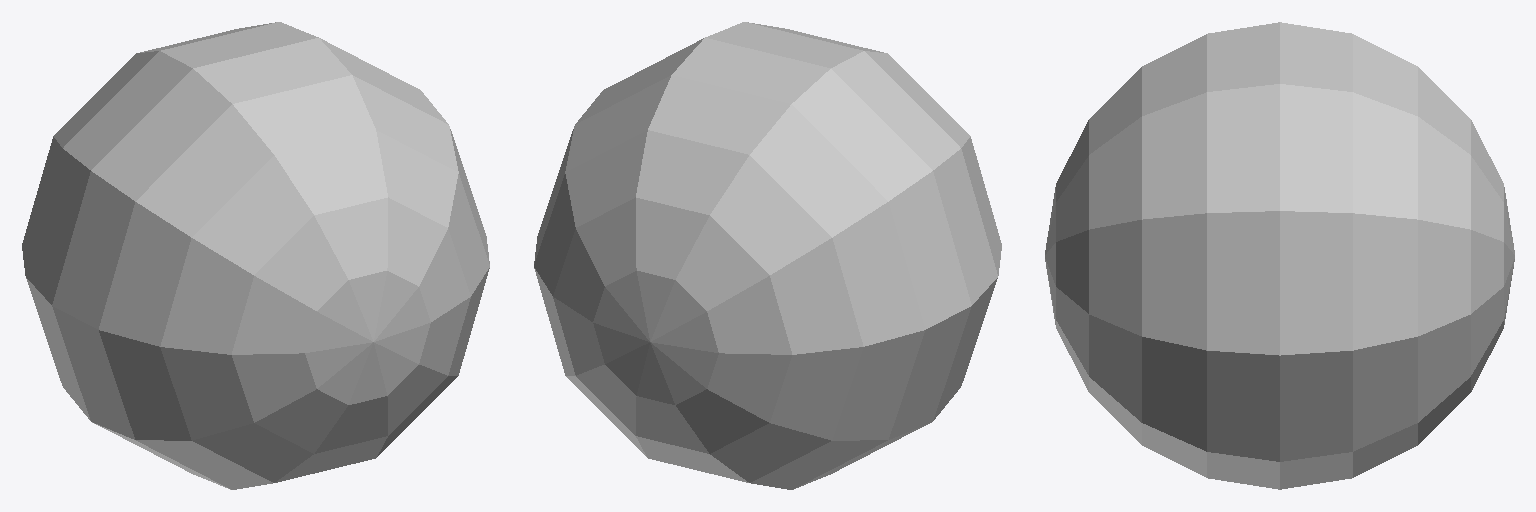
The model's file is sphere_rad10.obj.
3 renders of one model, left to right at view 1: azimuth 30°, elevation 25°; view 2: azimuth 150°, elevation 25°; view 3: azimuth 270°, elevation 25°, orthographic.
Bounding box in the file's own units: 20 × 19.02 × 20.